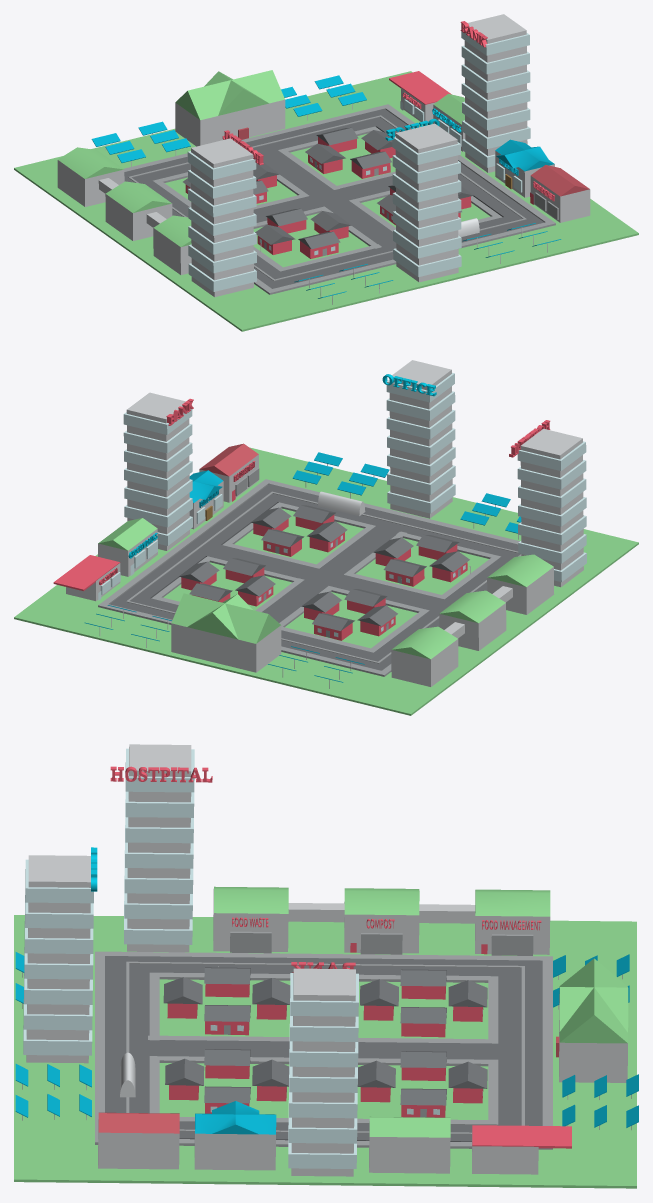
The picture shows the model from 3 angles, top to bottom: view 1: azimuth 30°, elevation 25°; view 2: azimuth 150°, elevation 25°; view 3: azimuth 270°, elevation 25°; orthographic projection. The views are drawn at different scales.
Visible parts, largest first — view 1: Object_9, Object_2, Object_3, Object_6, Object_11, Object_5, Object_7, Object_12, Object_8; view 2: Object_9, Object_6, Object_2, Object_3, Object_11, Object_5, Object_7, Object_12, Object_4, Object_8; view 3: Object_9, Object_2, Object_6, Object_3, Object_11, Object_5, Object_7, Object_12, Object_4.
Boxes of the visible parts, x1,y1,x2,y2 form: Object_9: (14, 70, 638, 331); Object_2: (57, 14, 590, 304); Object_3: (187, 31, 530, 291); Object_6: (124, 108, 544, 288); Object_11: (124, 104, 558, 294); Object_5: (185, 21, 554, 258); Object_7: (91, 75, 561, 298); Object_12: (238, 127, 589, 196); Object_8: (385, 108, 461, 140); Object_9: (14, 447, 638, 715); Object_6: (109, 484, 520, 670); Object_2: (66, 360, 583, 688); Object_3: (98, 372, 586, 636); Object_11: (98, 468, 521, 676); Object_5: (53, 398, 550, 640); Object_7: (84, 452, 521, 682); Object_12: (199, 443, 258, 476); Object_4: (318, 491, 365, 516); Object_8: (128, 374, 436, 558); Object_9: (14, 886, 636, 1188); Object_2: (22, 744, 631, 1176); Object_6: (105, 956, 542, 1141); Object_3: (23, 748, 482, 1168); Object_11: (95, 931, 552, 1149); Object_5: (110, 766, 571, 1148); Object_7: (15, 952, 638, 1134); Object_12: (98, 1036, 559, 1133); Object_4: (120, 1052, 135, 1097).
Size of the model in its own units: 70.02 by 23.84 by 69.9.
